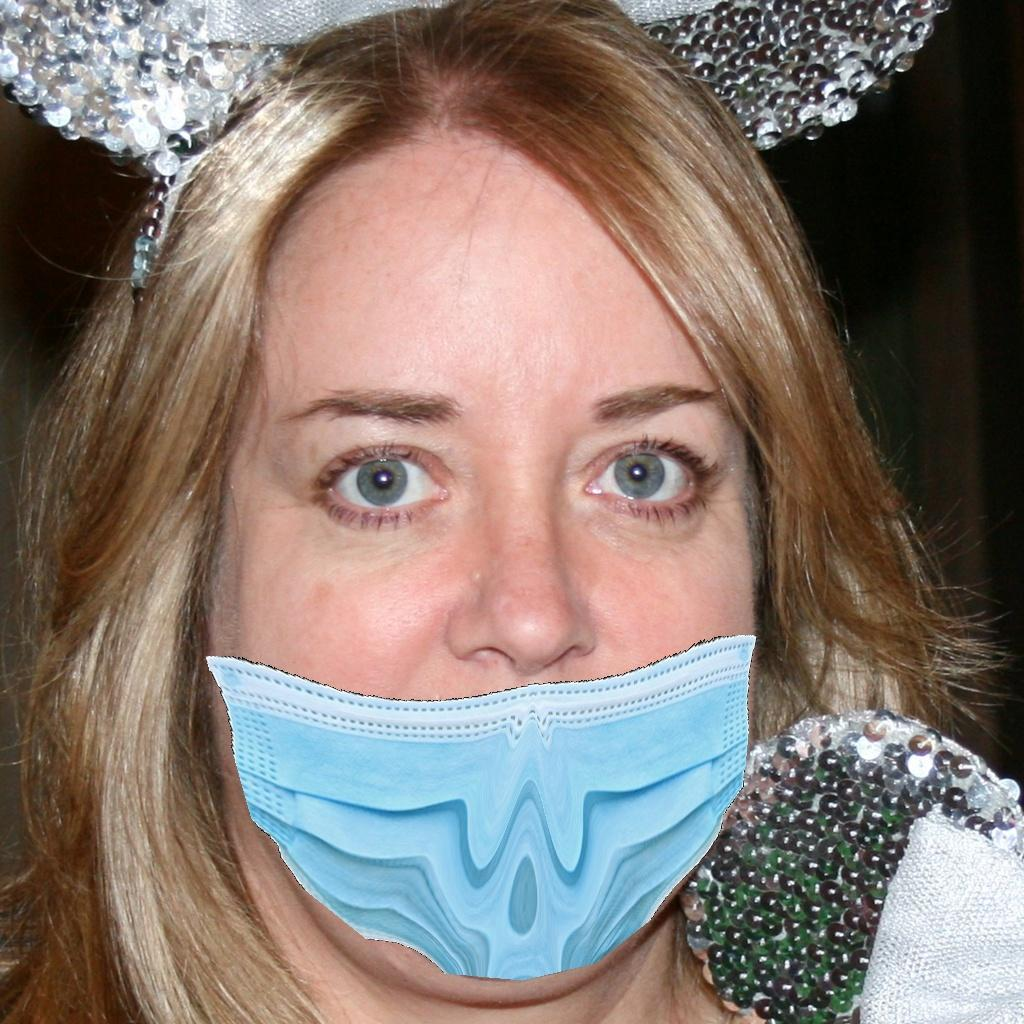Máscara Incorreta: (208, 300, 771, 963)
